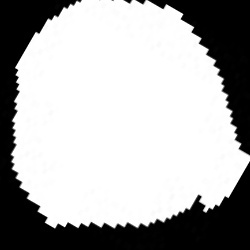spot: (13, 2, 248, 231)
